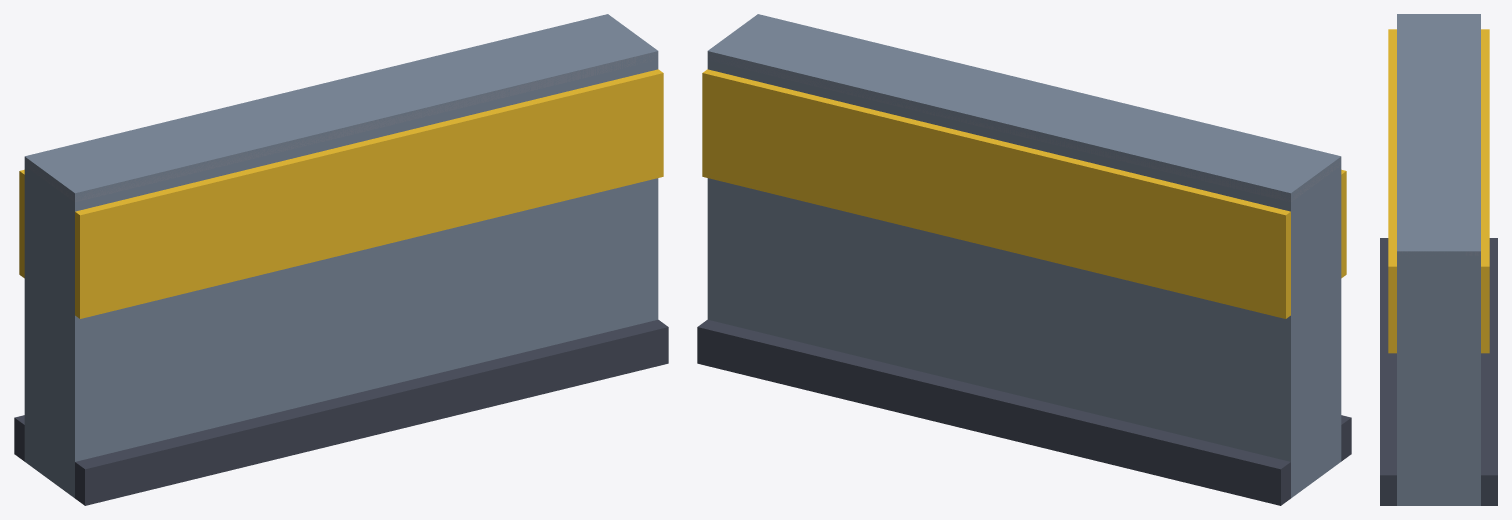
Rendered from partition.glb.
3 renders of one model, left to right at view 1: azimuth 30°, elevation 25°; view 2: azimuth 150°, elevation 25°; view 3: azimuth 270°, elevation 25°, orthographic. The views are drawn at different scales.
Parts seen in each view (by area): view 1: partition; view 2: partition; view 3: partition.
Boxes of the visible parts, box(x1,y1,x2,y2) form: partition: box(14, 14, 668, 505); partition: box(697, 14, 1351, 505); partition: box(1380, 14, 1497, 505).
Bounding box in the file's own units: 1 × 0.5 × 0.21.
Materials: 1 (1 with a texture image).
